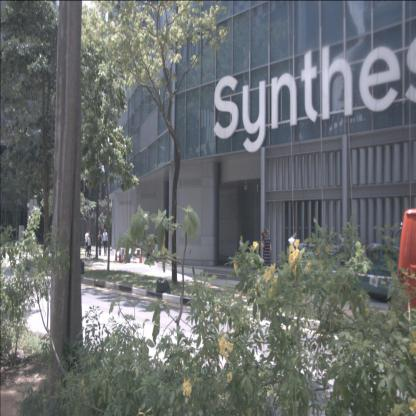cone: (123, 248, 127, 264), (114, 249, 118, 262), (139, 247, 142, 263), (118, 250, 121, 263)
